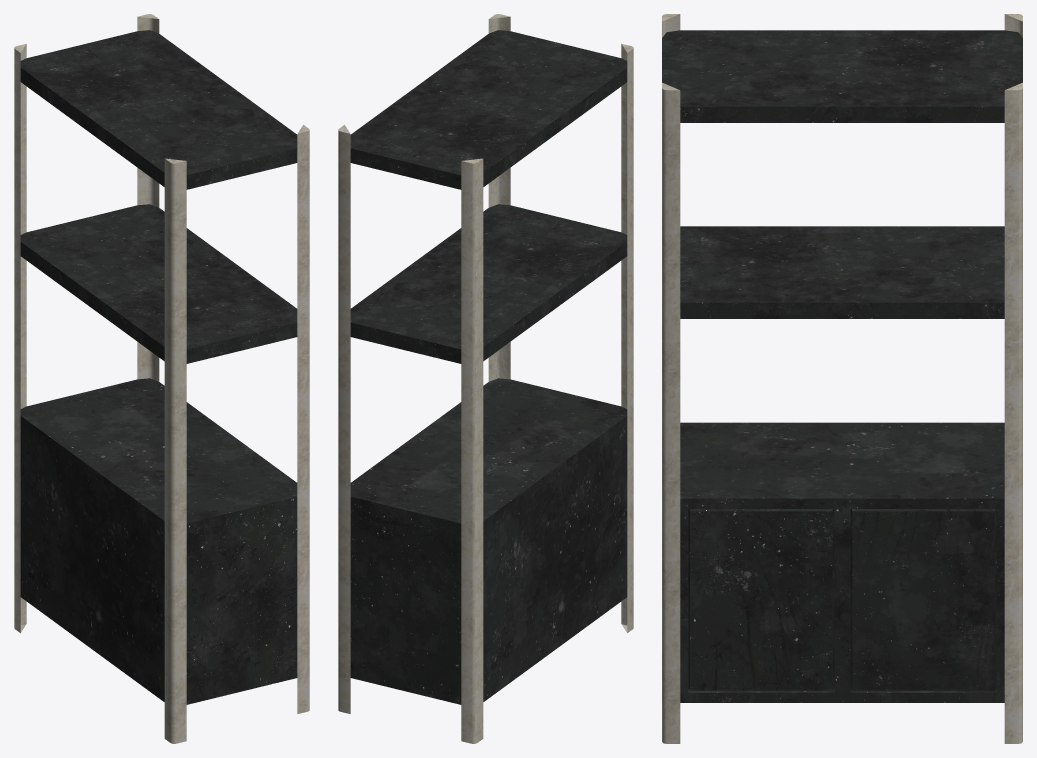
File: shelf2.glb
The picture shows the model from 3 angles, left to right: view 1: azimuth 30°, elevation 25°; view 2: azimuth 150°, elevation 25°; view 3: azimuth 270°, elevation 25°; orthographic projection. The views are drawn at different scales.
Parts seen in each view (by area): view 1: shelf2; view 2: shelf2; view 3: shelf2.
Boxes of the visible parts, x1=… form: shelf2: x1=14, y1=14, x2=309, y2=743; shelf2: x1=338, y1=14, x2=633, y2=743; shelf2: x1=662, y1=14, x2=1022, y2=743.
Bounding box in the file's own units: 0.5 × 2 × 1.
Materials: 2 (2 with a texture image).
